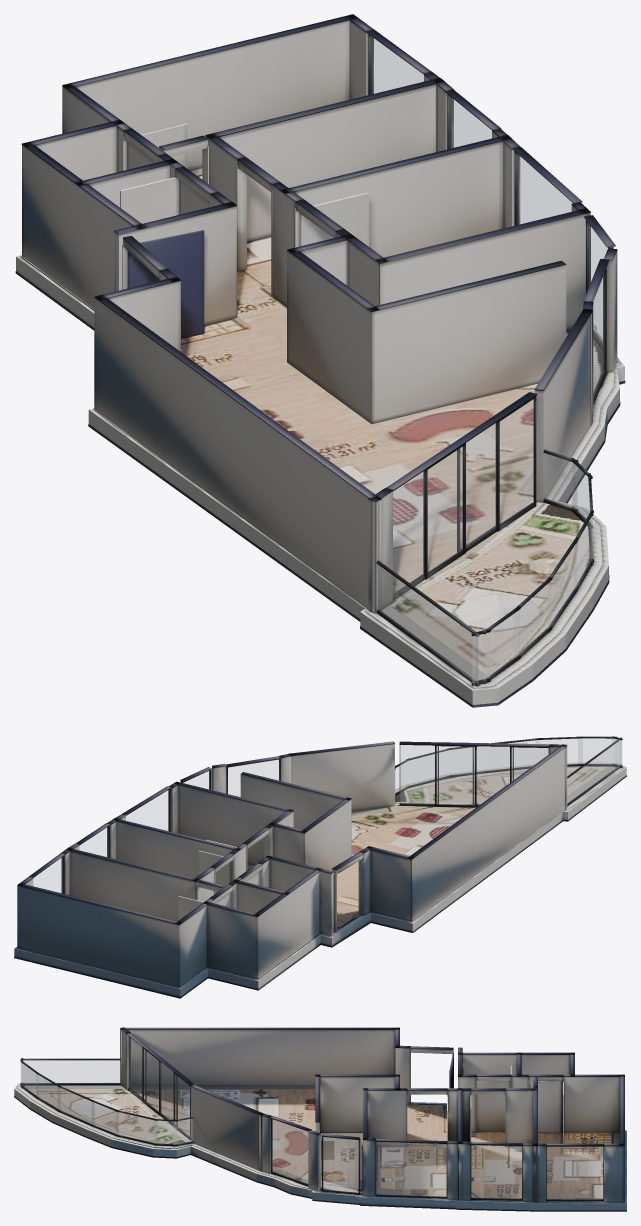
The picture shows the model from 3 angles, top to bottom: view 1: azimuth 30°, elevation 25°; view 2: azimuth 150°, elevation 25°; view 3: azimuth 270°, elevation 25°; orthographic projection. The views are drawn at different scales.
Parts seen in each view (by area): view 1: plan, glass5_m, railg8_m, glass2_m, glass0_m, railg6_m, railg5_m, railg0_m, railg4_m, glass1_m, glass4_m, glass3_m; view 2: plan, glass5_m, railg8_m, glass2_m, railg4_m, glass4_m, railg2_m, railg6_m, railg3_m, glass0_m, railg5_m, glass1_m; view 3: plan, glass2_m, glass0_m, glass5_m, glass1_m, railg8_m, glass3_m, glass4_m, railg2_m, railg4_m, railg3_m, railg1_m (+3 smaller).
Part boxes in pixels (<box>): plan: <box>15,14,625,707</box>; glass5_m: <box>393,399,533,595</box>; railg8_m: <box>378,565,478,682</box>; glass2_m: <box>517,154,572,224</box>; glass0_m: <box>371,36,423,93</box>; railg6_m: <box>484,610,519,679</box>; railg5_m: <box>515,581,550,657</box>; railg0_m: <box>544,453,576,508</box>; railg4_m: <box>548,543,576,628</box>; glass1_m: <box>450,97,491,148</box>; glass4_m: <box>593,274,604,396</box>; glass3_m: <box>589,225,607,343</box>; plan: <box>14,736,626,998</box>; glass5_m: <box>400,745,548,805</box>; railg8_m: <box>567,740,620,803</box>; glass2_m: <box>126,790,168,830</box>; railg4_m: <box>488,740,539,770</box>; glass4_m: <box>228,760,279,796</box>; railg2_m: <box>409,751,447,785</box>; railg6_m: <box>578,738,616,763</box>; railg3_m: <box>450,747,483,774</box>; glass0_m: <box>33,857,62,892</box>; railg5_m: <box>536,738,582,764</box>; glass1_m: <box>79,827,107,856</box>; plan: <box>14,1027,626,1211</box>; glass2_m: <box>376,1142,446,1196</box>; glass0_m: <box>547,1147,602,1199</box>; glass5_m: <box>129,1036,189,1136</box>; glass1_m: <box>471,1145,521,1198</box>; railg8_m: <box>20,1060,120,1082</box>; glass3_m: <box>323,1137,358,1192</box>; glass4_m: <box>272,1119,307,1183</box>; railg2_m: <box>115,1112,157,1143</box>; railg4_m: <box>58,1087,94,1124</box>; railg3_m: <box>91,1102,118,1134</box>; railg1_m: <box>153,1120,177,1144</box>.
Bounding box in the file's own units: 10.41 × 2.62 × 22.34.
2 materials, 1 textured.
